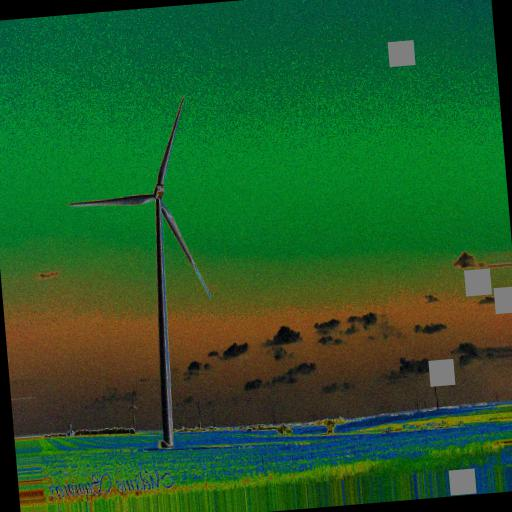wind turbine: (64, 95, 211, 447)
